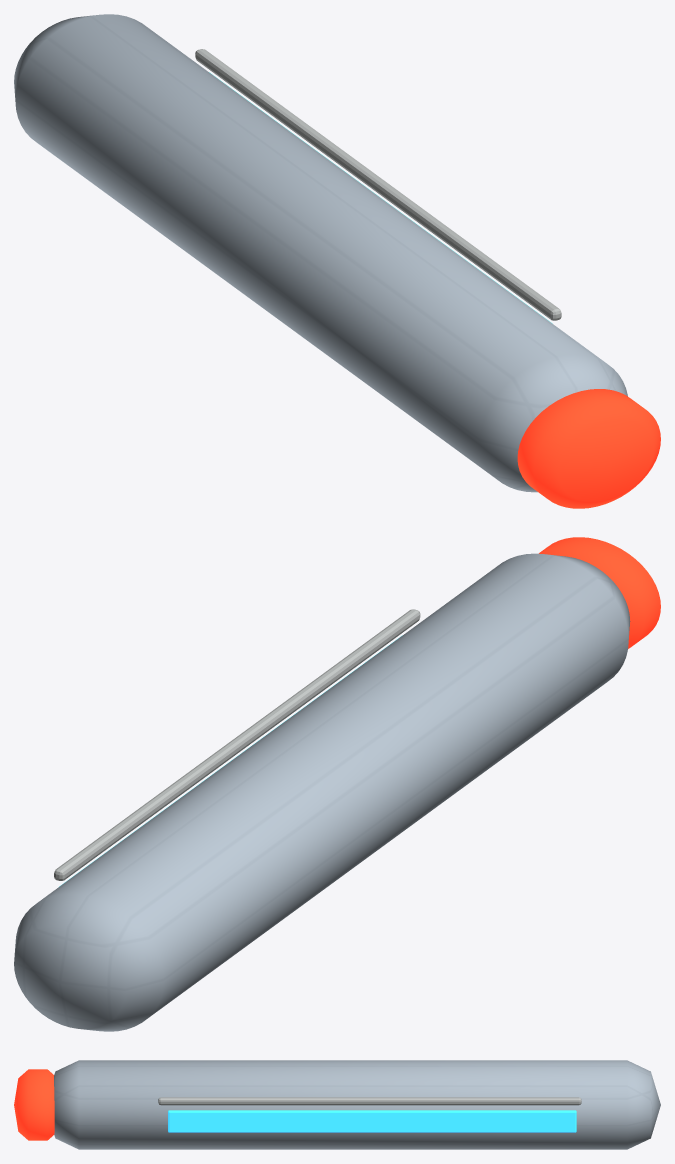
File: OriginalCruiser_Nacelle_B.fbx
The picture shows the model from 3 angles, top to bottom: view 1: azimuth 30°, elevation 25°; view 2: azimuth 150°, elevation 25°; view 3: azimuth 270°, elevation 25°; orthographic projection. The views are drawn at different scales.
Parts seen in each view (by area): view 1: OriginalCruiser_Nacelle_B; view 2: OriginalCruiser_Nacelle_B; view 3: OriginalCruiser_Nacelle_B.
Boxes of the visible parts, bbox=[...] form: OriginalCruiser_Nacelle_B: bbox=[14, 14, 660, 508]; OriginalCruiser_Nacelle_B: bbox=[14, 537, 660, 1031]; OriginalCruiser_Nacelle_B: bbox=[14, 1060, 660, 1149].
Size of the model in its own units: 5080 by 4303 by 32157.
Materials: 1 (1 with a texture image).
